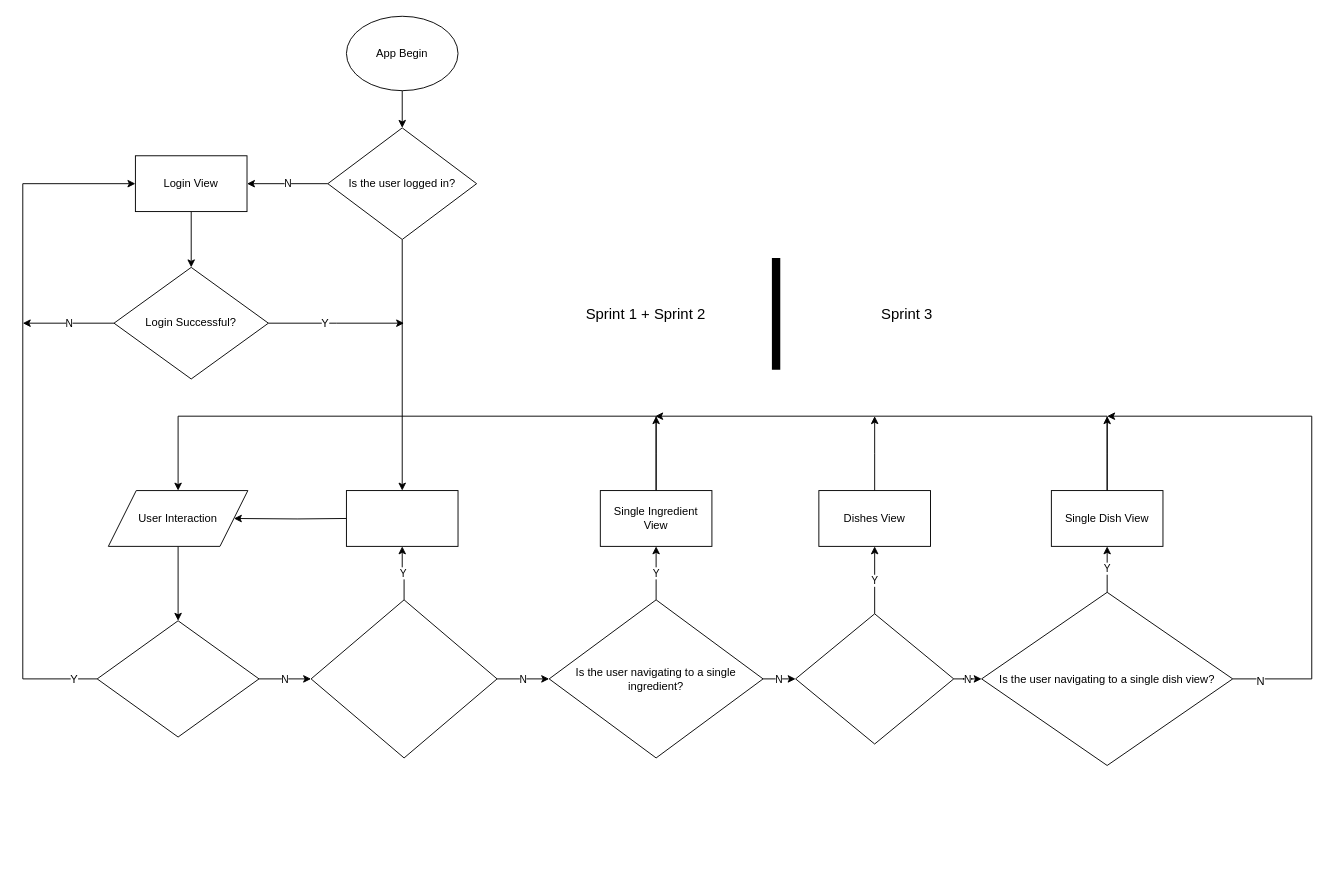
This 1335x870 diagram has some shape labels left out. The shapes that lost their labels are listed below. From the top down, each one's box as (x1, y1, x2, y2) in pixels, then its label:
(345, 490, 458, 546): Ingredients List
(96, 620, 259, 737): Did the user log out?
(310, 599, 497, 758): Is the user navigating to the ingredients list?
(795, 613, 954, 744): Is the user navigating to the Dishes section?
